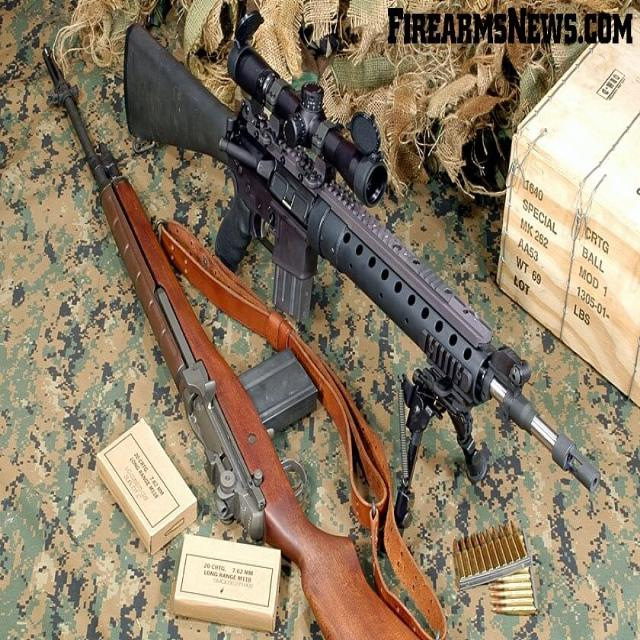Rifle: (45, 49, 432, 640), (123, 13, 600, 491)
